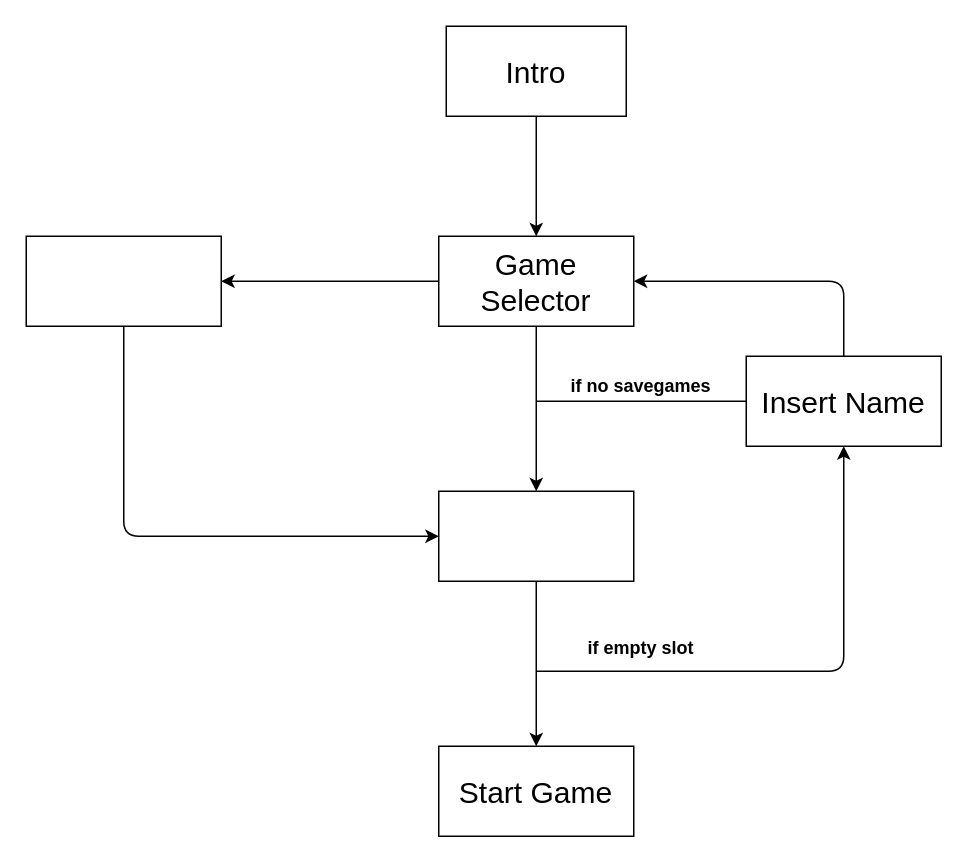
Image size: 968x863. Some labels were removed from this diagram. The box of each missing label's shape, as (x1, y1, x2, y2) in pixels:
Copy/Erase Player: (25, 235, 221, 326)
Select Game: (437, 490, 634, 581)
